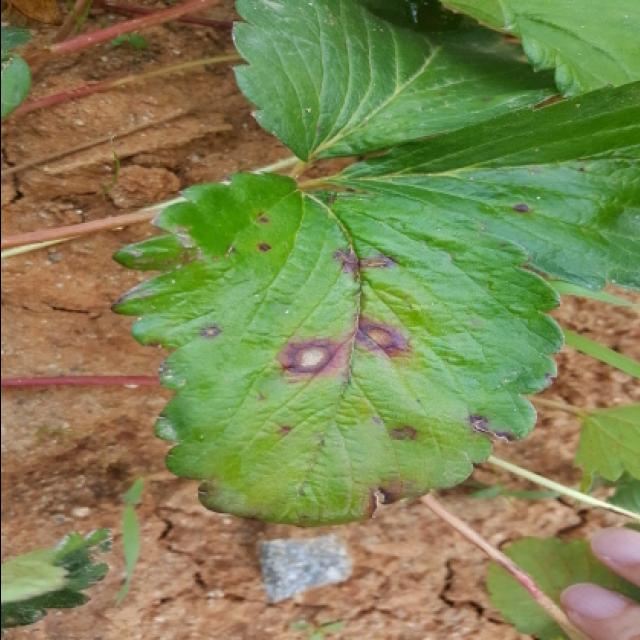Leaf Spot: (110, 170, 564, 529), (321, 79, 640, 292), (229, 0, 559, 161)
